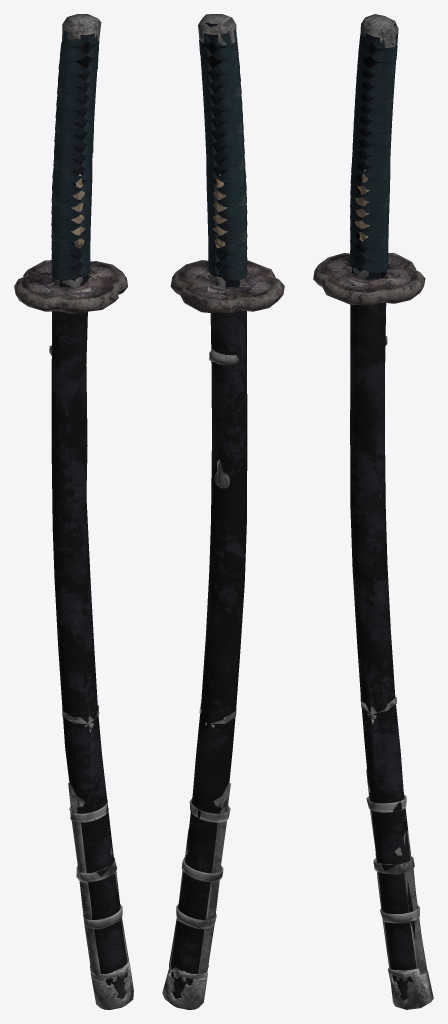
Rendered from Kusabimaru.fbx.
3 renders of one model, left to right at view 1: azimuth 30°, elevation 25°; view 2: azimuth 150°, elevation 25°; view 3: azimuth 330°, elevation 25°, orthographic.
Visible parts, largest first — view 1: Sheath, blade, Tsuba; view 2: Sheath, blade, Tsuba; view 3: Sheath, blade, Tsuba.
Boxes of the visible parts, bbox=[...] form: Sheath: bbox=[49, 311, 133, 1009]; blade: bbox=[51, 14, 101, 499]; Tsuba: bbox=[14, 260, 127, 313]; Sheath: bbox=[162, 310, 247, 1009]; blade: bbox=[198, 14, 247, 287]; Tsuba: bbox=[170, 260, 284, 313]; Sheath: bbox=[350, 302, 433, 1009]; blade: bbox=[350, 14, 398, 497]; Tsuba: bbox=[313, 253, 425, 305].
Size of the model in its own units: 13.08 by 110 by 10.97.
2 materials, 2 textured.
